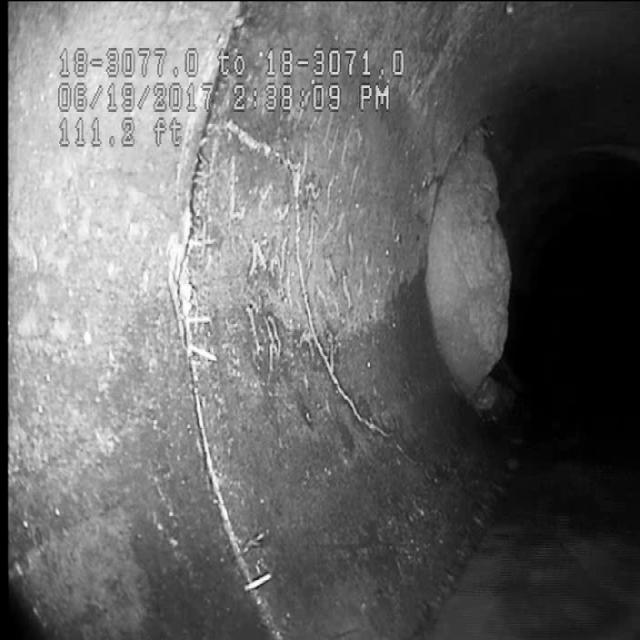Crack: (262, 140, 373, 453)
